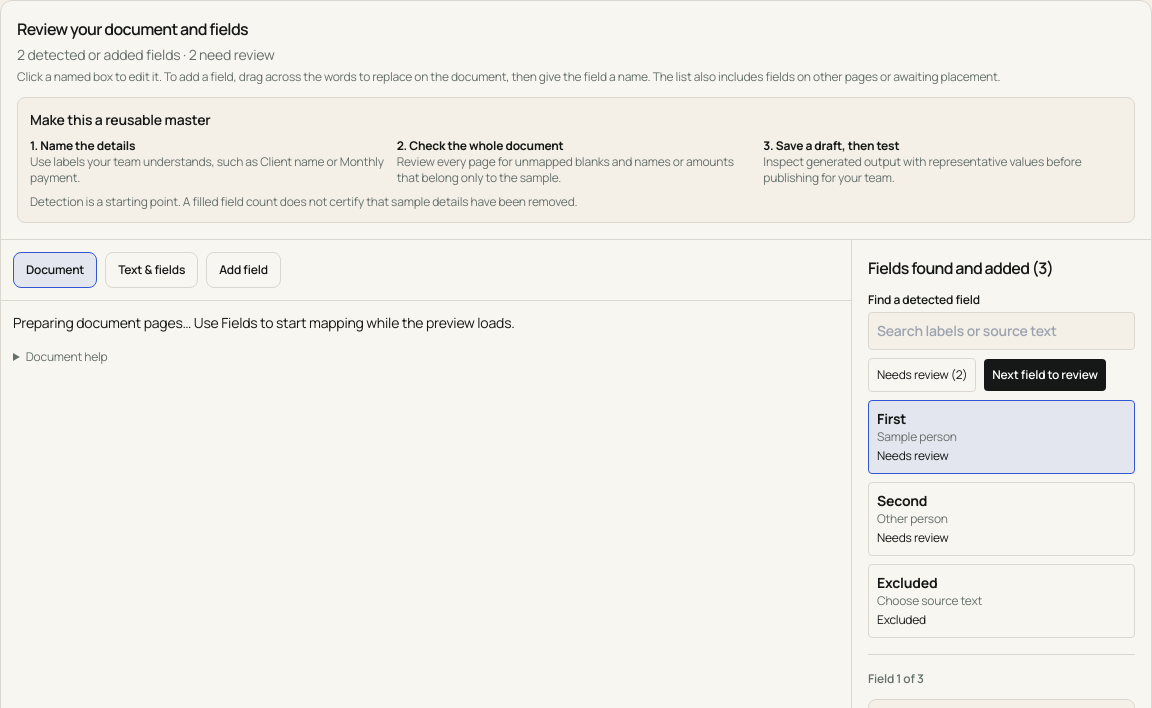
Test: searches source text, recovers an empty filter, and cycles review candidates without certifying them
Type "Other person" into the search field. click: (1002, 331)
box: [868, 312, 1135, 350]
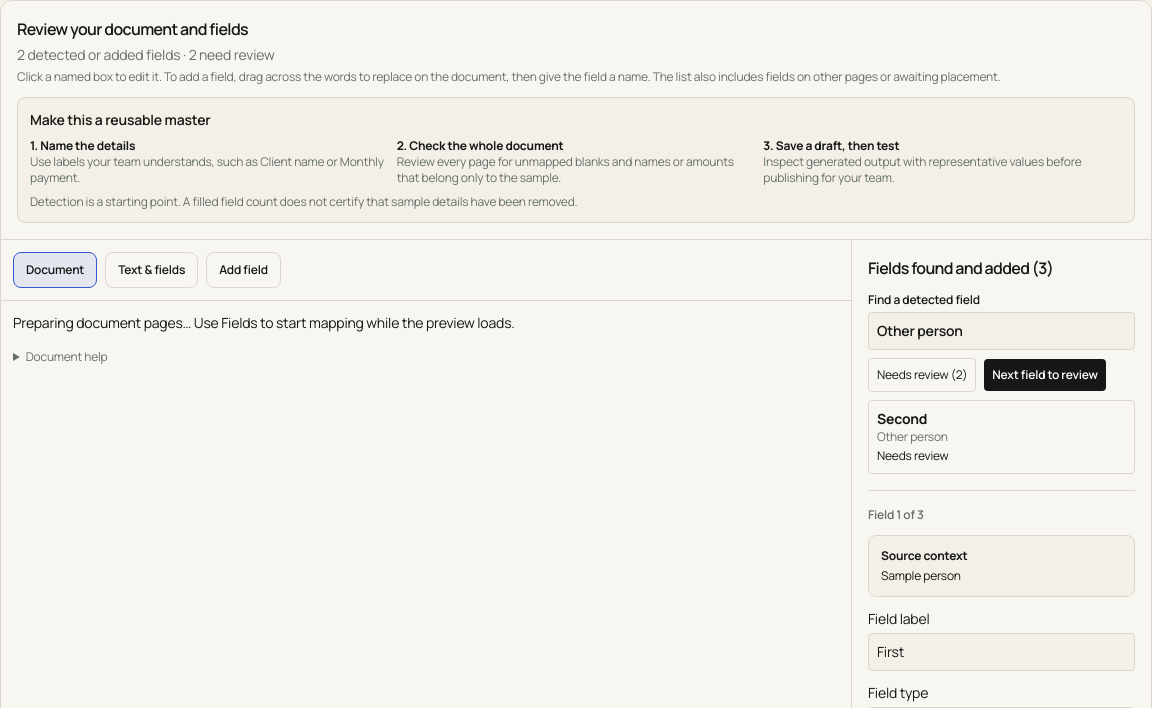
Expected: the button with aria-label "Select Second" is shown, [868, 400, 1135, 474]
Replace the text in the search field with "no match". click: (1002, 331)
box: [868, 312, 1135, 350]
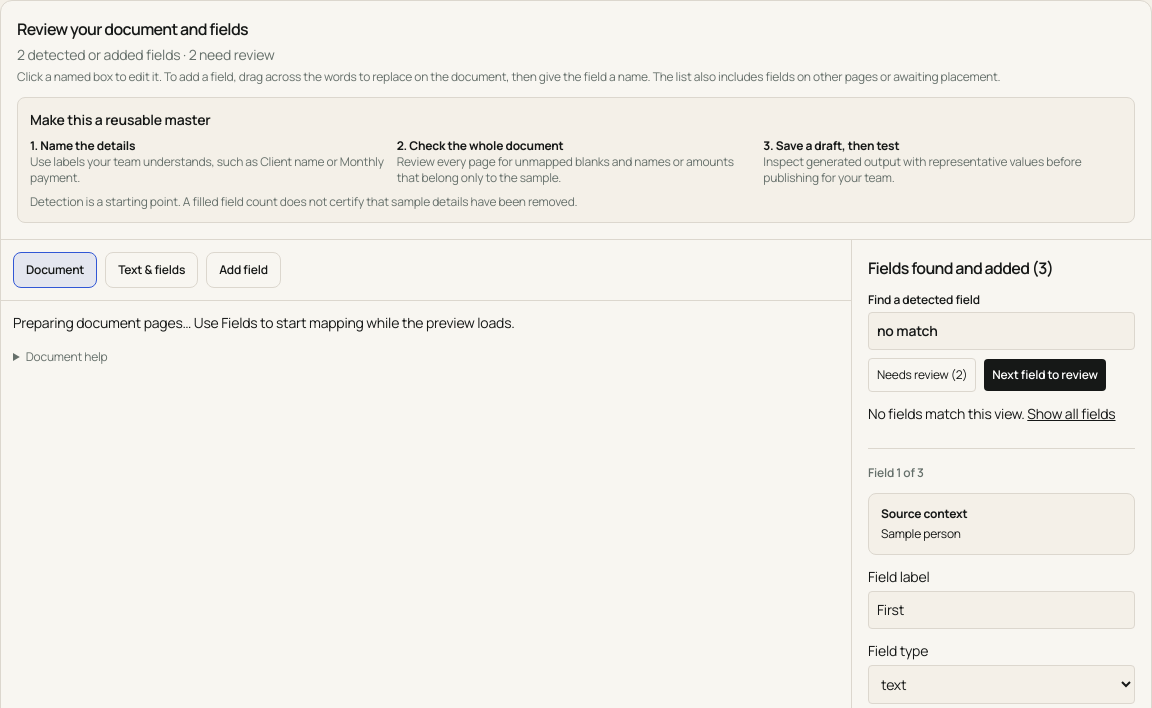
Click the button "Show all fields". click: (1071, 414)
box: [1027, 404, 1116, 424]
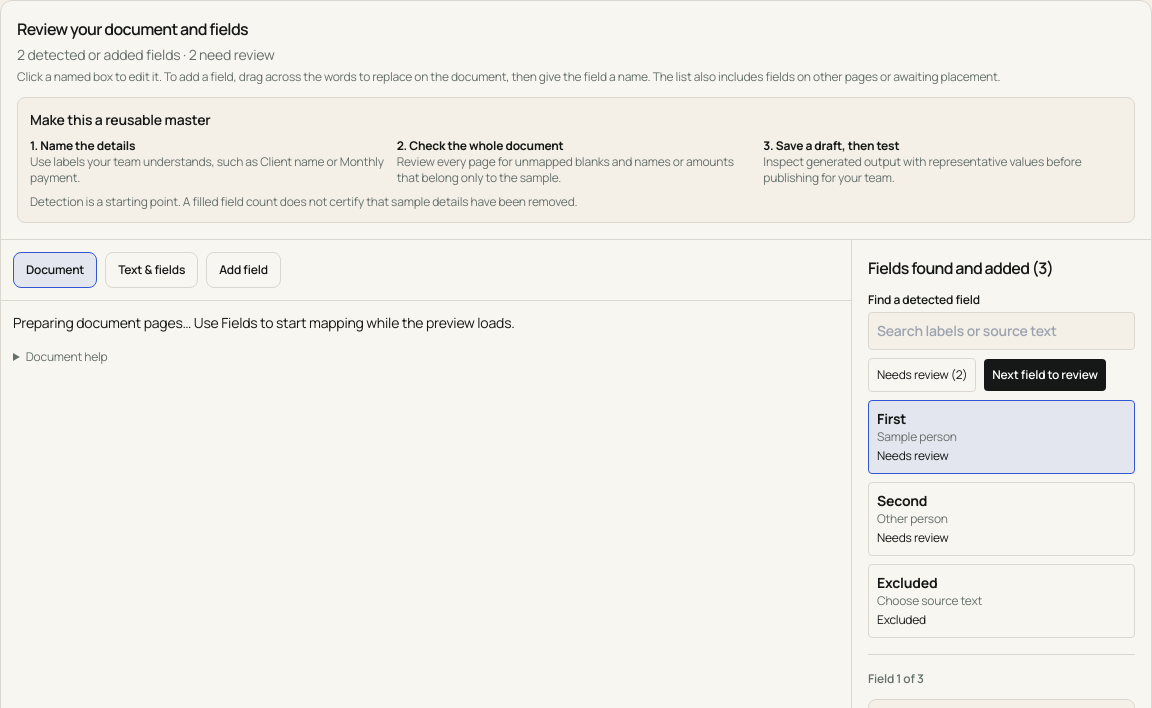
Click the button "Needs review (2)". click: (922, 375)
box: [868, 358, 976, 392]
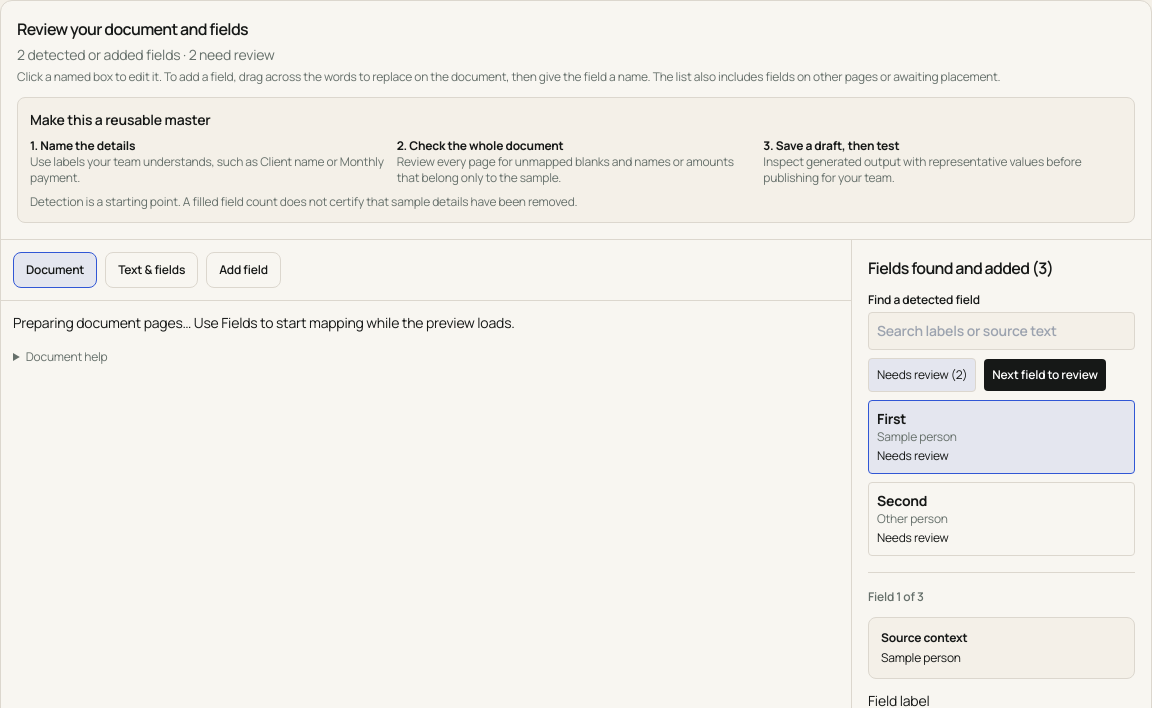
Click the button "Next field to review". click: (1045, 375)
box: [984, 359, 1106, 391]
(page scrolled)
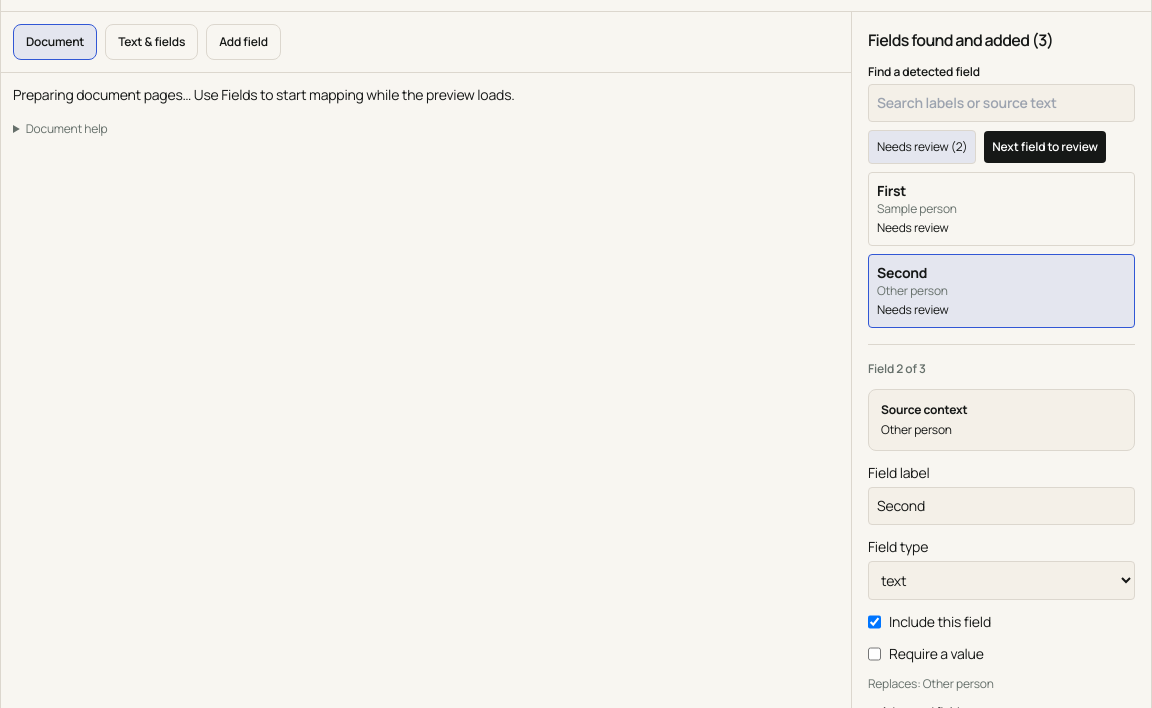
Expected: the field named "Imported field label" holds "Second", [868, 487, 1135, 525]
Click the button "Next field to review". click: (1045, 147)
box: [984, 131, 1106, 163]
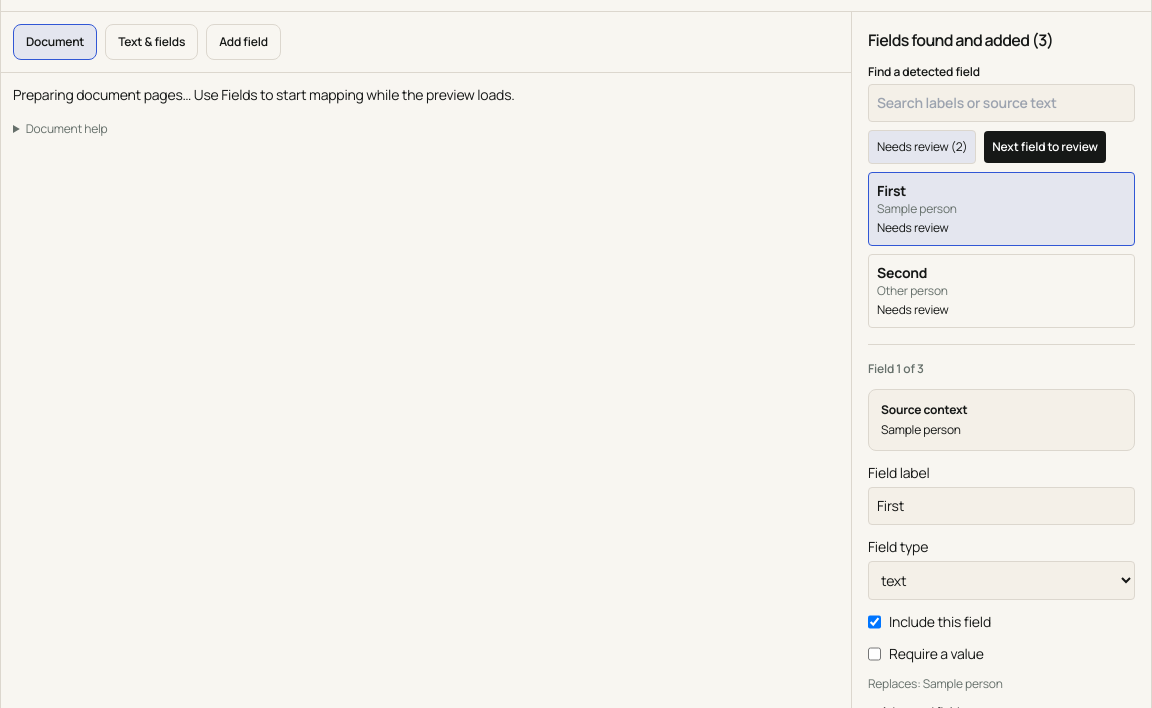
Expected: the field named "Imported field label" holds "First", [868, 487, 1135, 525]
